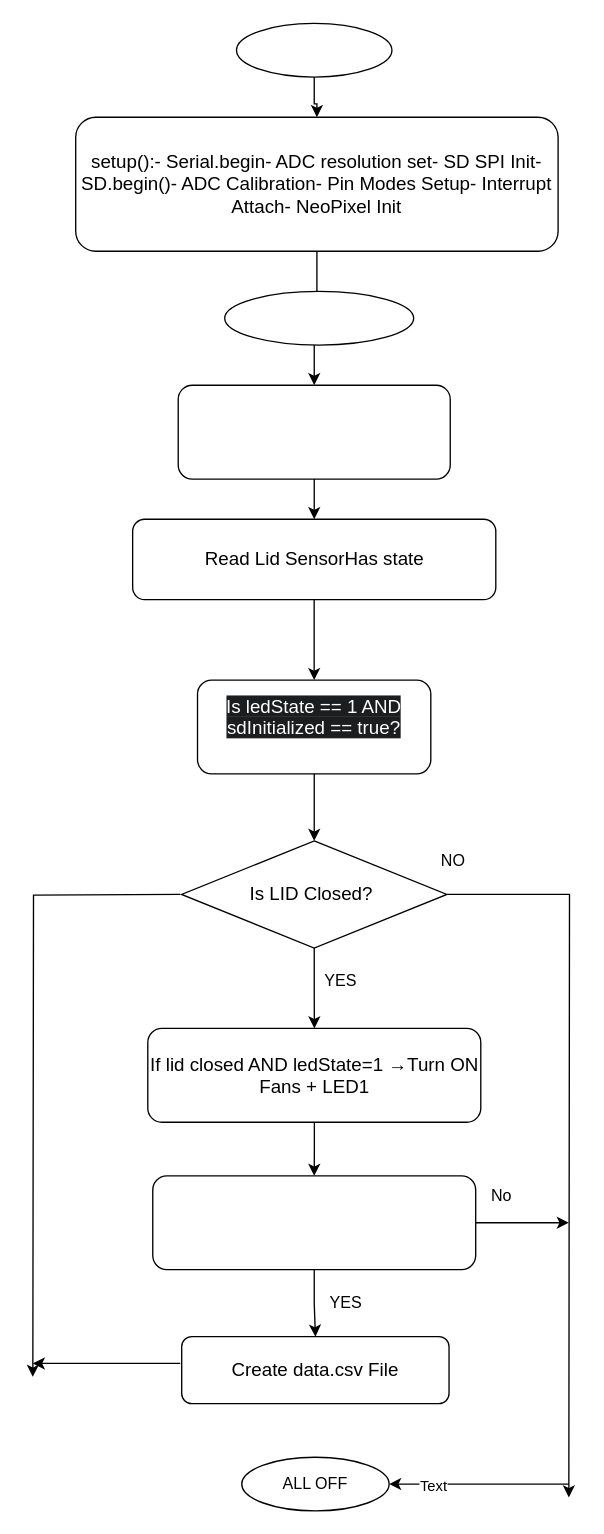
Some shapes in this 604 by 1534 pixel diagram are drawn without their labels. Here are the shapes that lost their labels. From the top down, the centre of each, then its label:
At point (313, 49): "START".
At point (318, 317): "loop() Begins".
At point (313, 431): "Check buttonPressed FlagIf TRUE → Toggle ledState".
At point (313, 1222): "If allowed:- runMulticolor()- runShiftPattern()".
